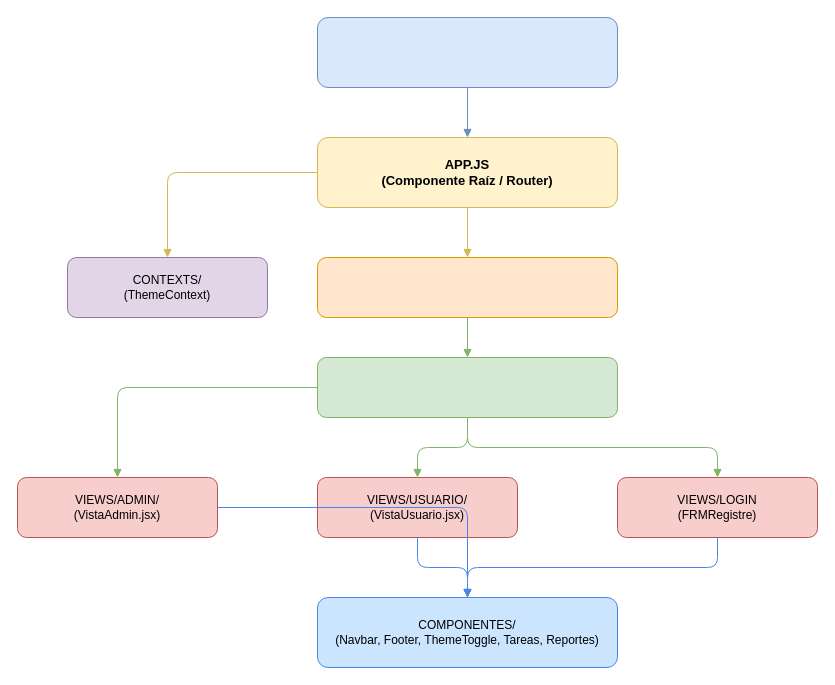
Image size: 835x685. Some labels were removed from this diagram. The shapes that lost their labels are listed below. From the top down, each one's box as (x1, y1, x2, y2) in pixels, then its label:
(316, 16, 618, 88): INDEX.JS (Punto de Entrada)
(316, 256, 618, 318): FIREBASE/CONFIG.JS (Conexión Auth & Firestore)
(316, 356, 618, 418): VISTAS / ROUTING
